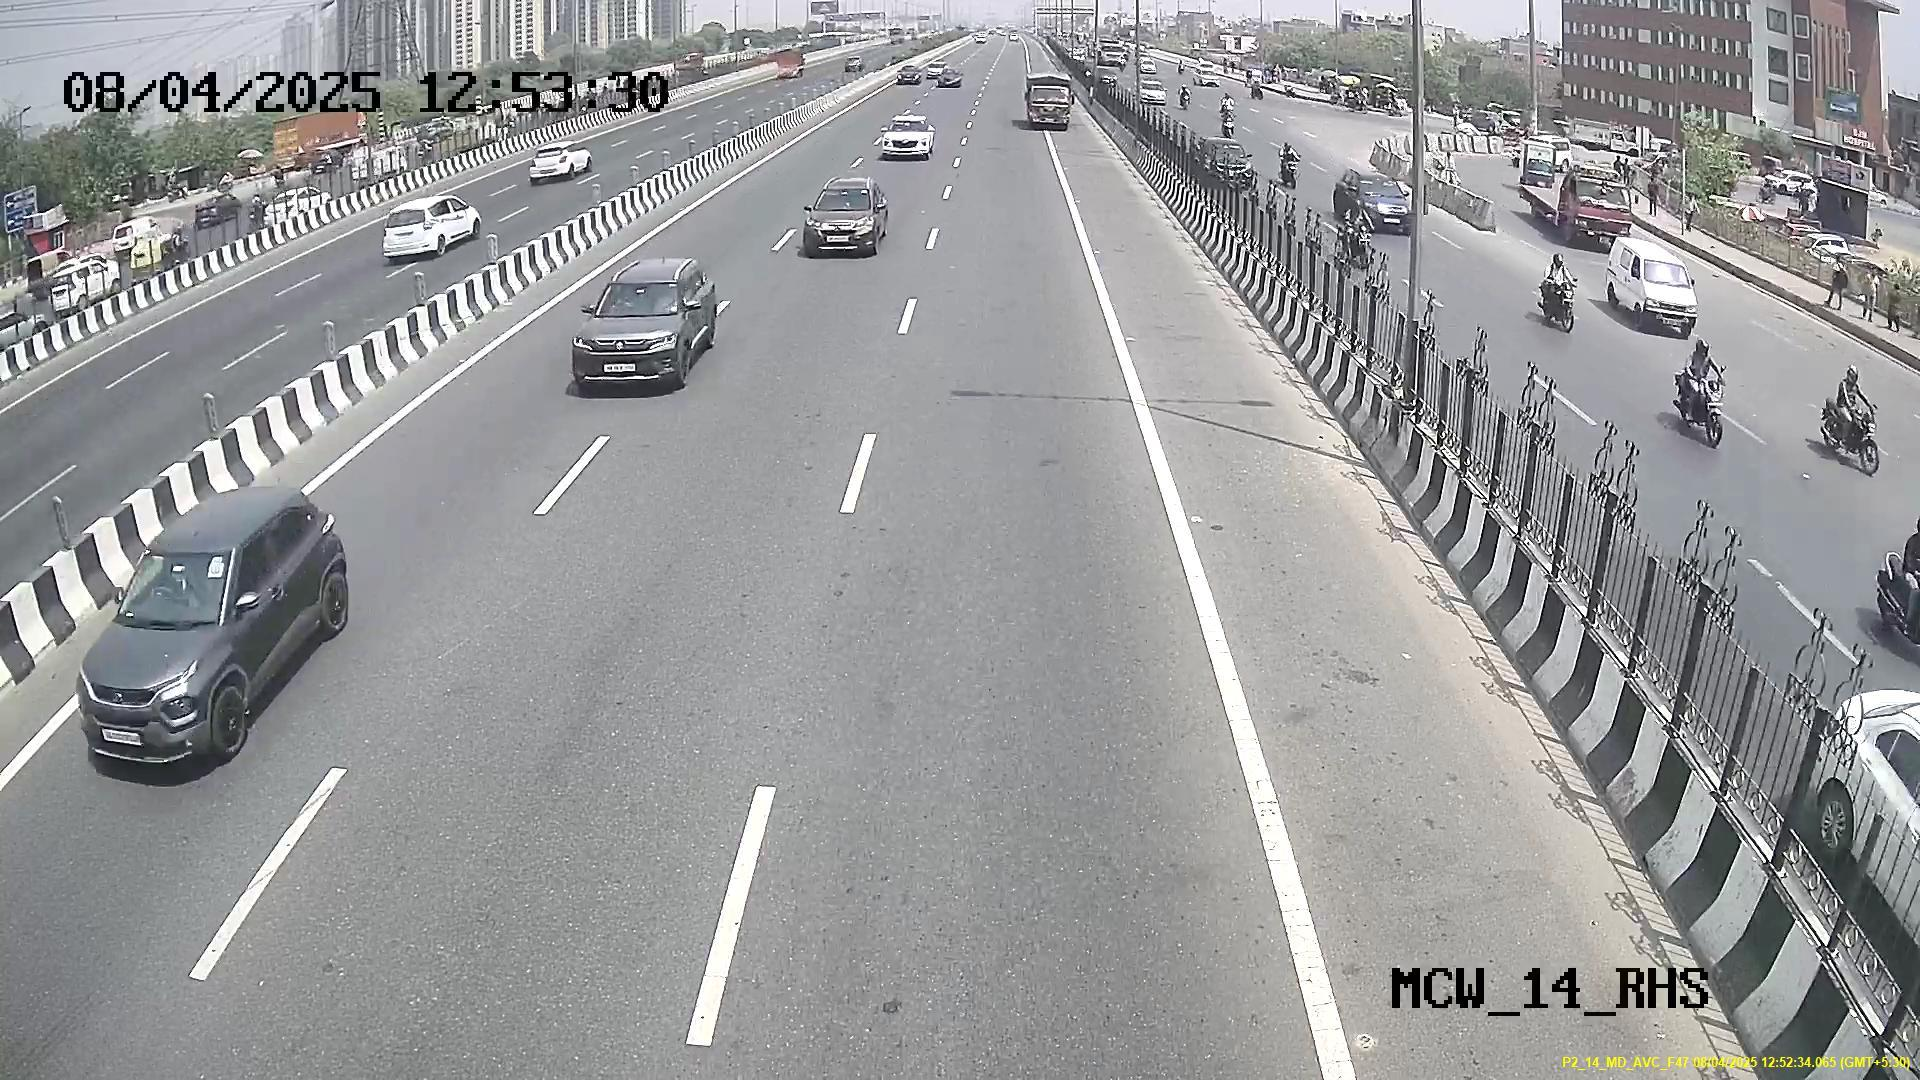car: (74, 516, 278, 771), (567, 268, 702, 390), (796, 173, 890, 262)
